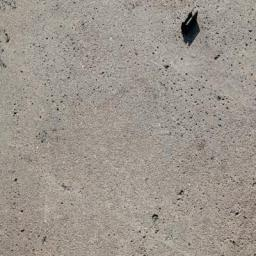FOD: (179, 6, 206, 49)
